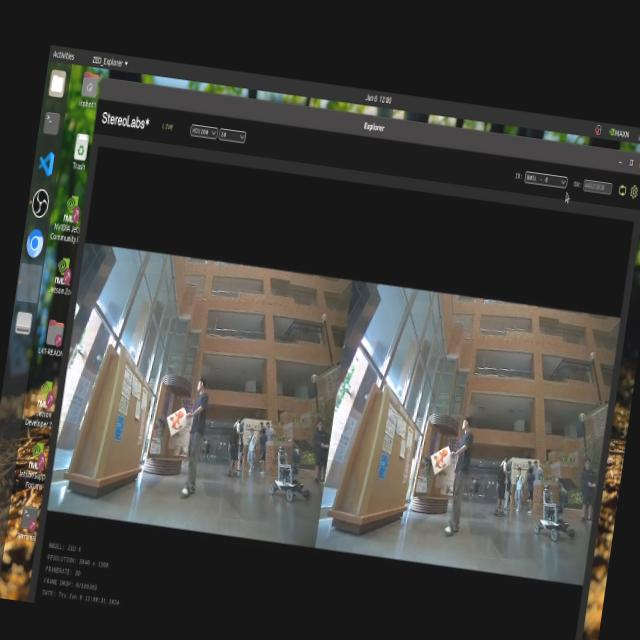red: (166, 407, 187, 439), (431, 445, 447, 475)
